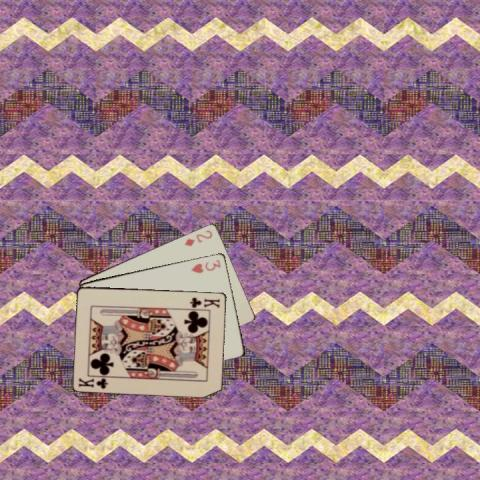2d: (182, 227, 214, 247)
3h: (189, 256, 222, 274)
Kc: (188, 294, 222, 309), (76, 375, 109, 390)
